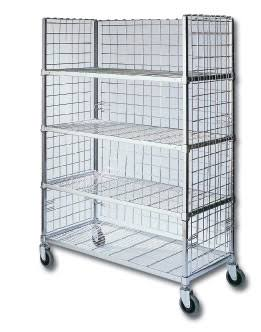Carts: (37, 17, 246, 317)
